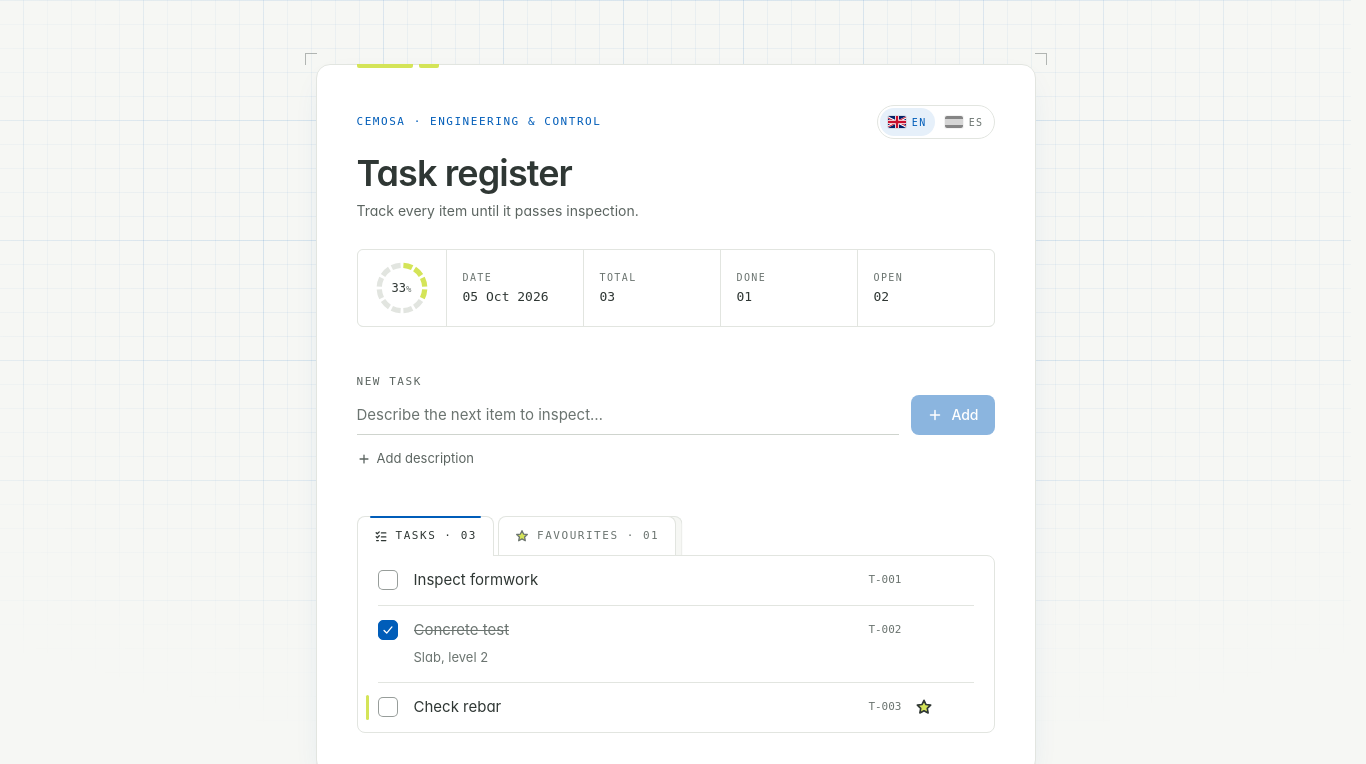
it: completing tasks (task 1) › rolls back the checkbox and shows an error when saving fails
Expected: the text "Inspect formwork" is shown, [414, 570, 538, 589]
Click the checkbox labelled "Inspect formwork" at (388, 580), box [378, 570, 398, 590]
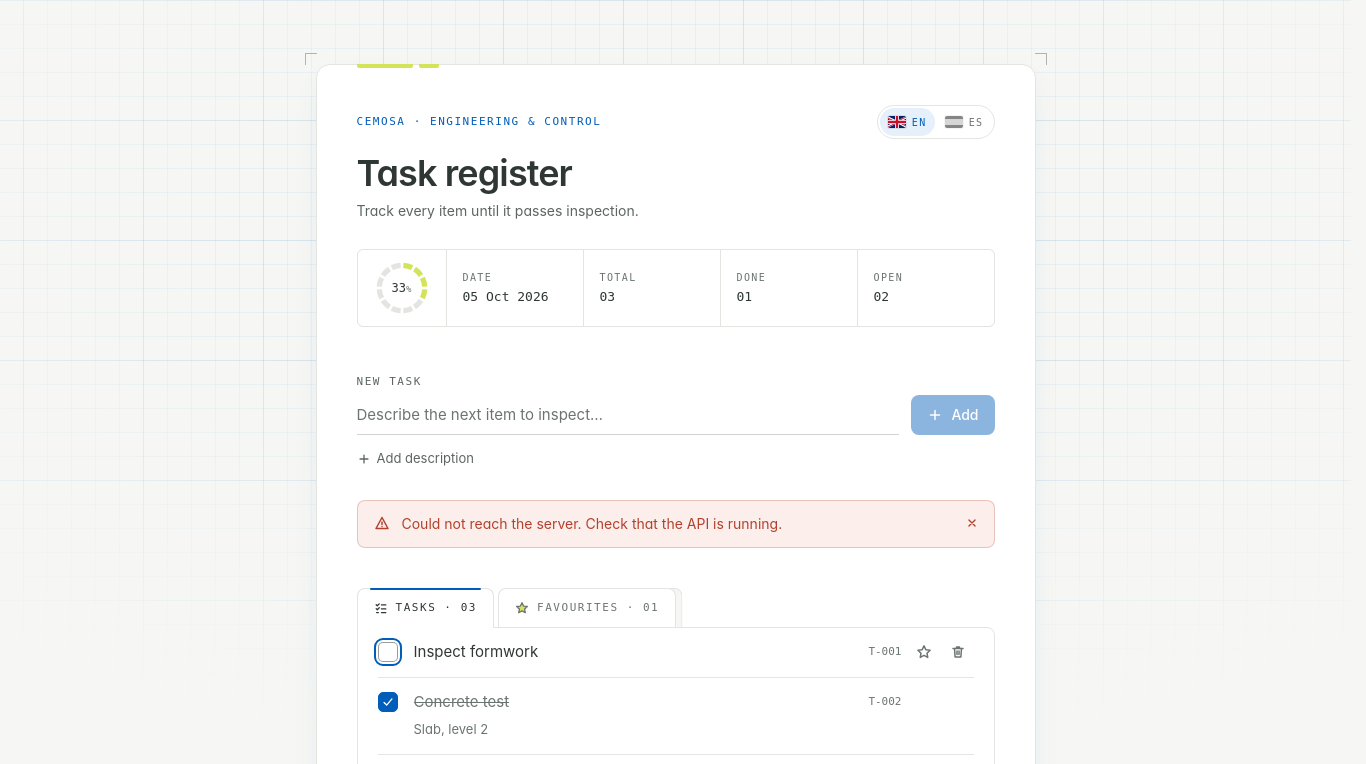
Expected: the checkbox labelled "Inspect formwork" is not checked, [378, 642, 398, 662]
Now the message shows "Could not reach the server", box [402, 515, 782, 532]
